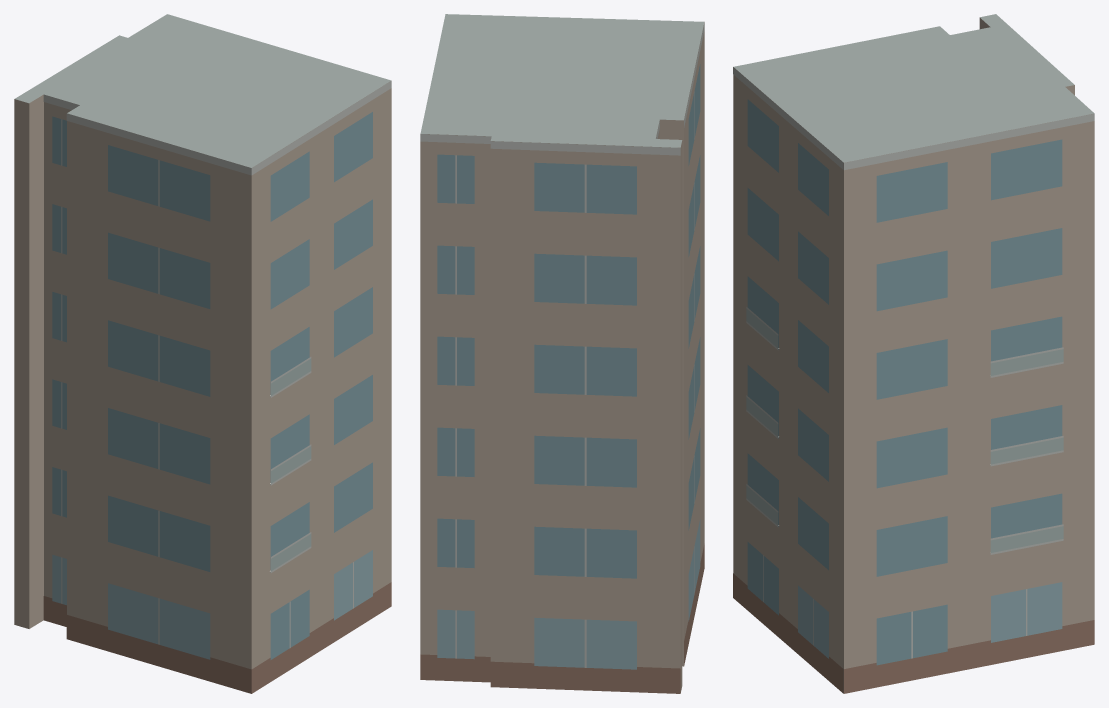
Rendered from survey-upis-33019375.glb.
3 views of the same model, side by side, from view 1: azimuth 30°, elevation 25°; view 2: azimuth 150°, elevation 25°; view 3: azimuth 270°, elevation 25° (orthographic). The views are drawn at different scales.
Visible parts, largest first — view 1: survey-upis-33019375.tmp; view 2: survey-upis-33019375.tmp; view 3: survey-upis-33019375.tmp.
Part boxes in pixels (box(x1,y1,x2,y2)): survey-upis-33019375.tmp: box(14, 14, 391, 693); survey-upis-33019375.tmp: box(420, 14, 704, 693); survey-upis-33019375.tmp: box(733, 14, 1094, 693).
Size of the model in its own units: 10.31 by 17.15 by 10.59.
